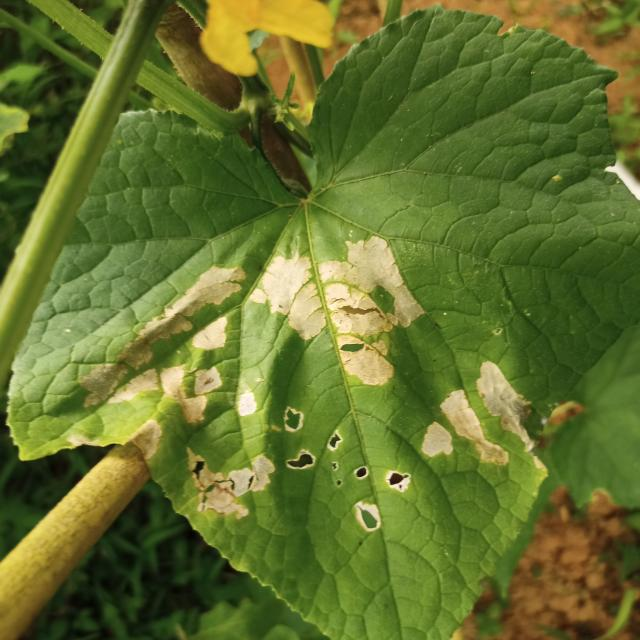disease_cucumber: (80, 233, 544, 530)
